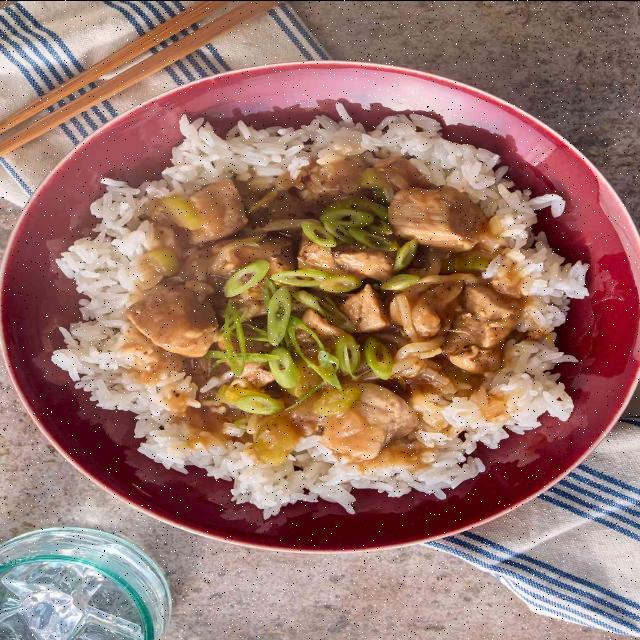Chicken: (255, 381, 418, 470), (408, 275, 520, 350), (129, 285, 218, 357), (389, 187, 486, 250), (301, 241, 391, 280), (192, 180, 247, 240), (343, 290, 399, 330), (213, 241, 267, 269)
Rice: (52, 299, 576, 517), (91, 103, 588, 297)
